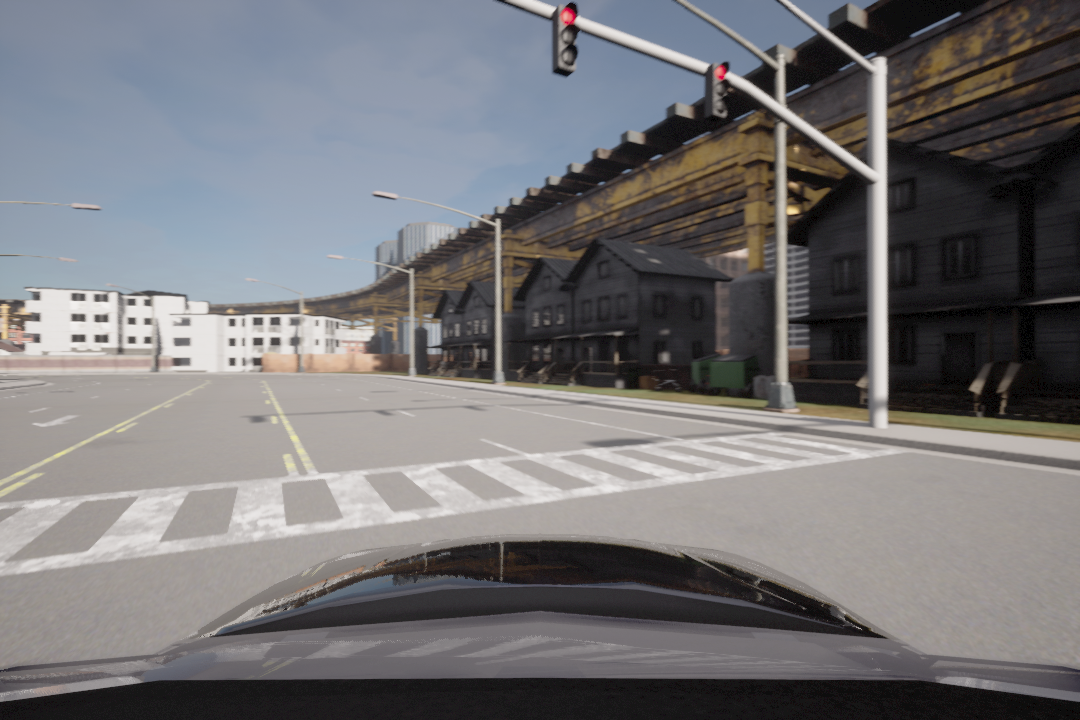RoadSign_forward: (32, 411, 81, 430)
TrafficLight: (550, 4, 583, 77), (706, 57, 734, 127)
walkside: (6, 432, 1044, 585)
